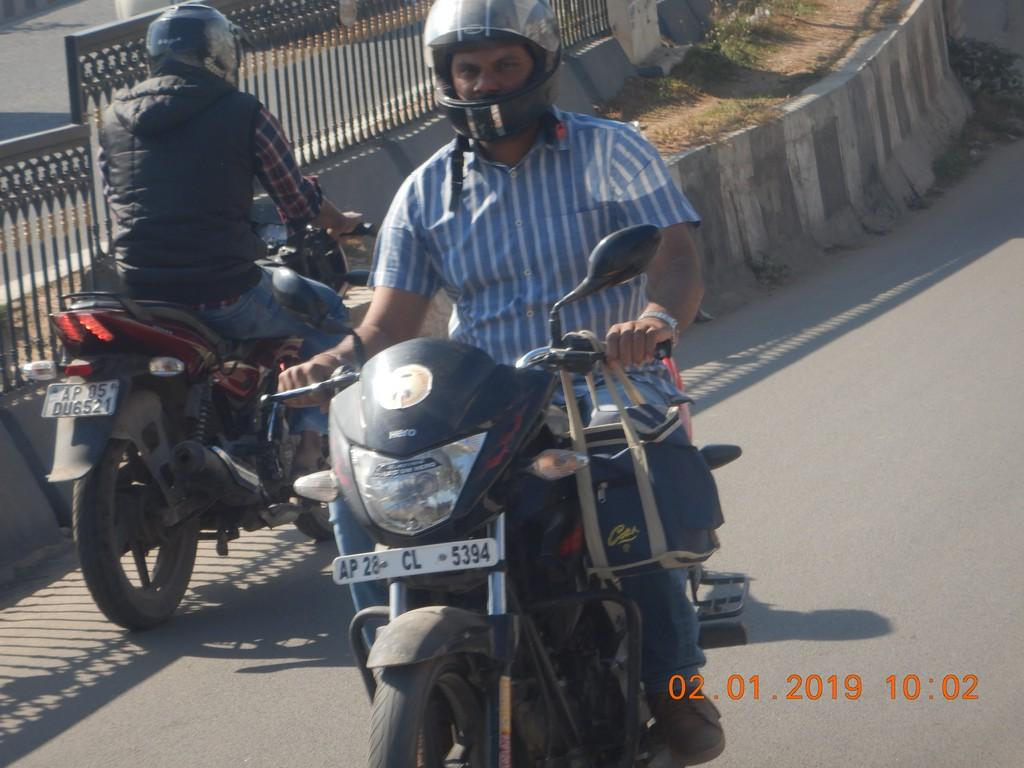plate: (336, 543, 498, 584), (46, 383, 117, 417)
